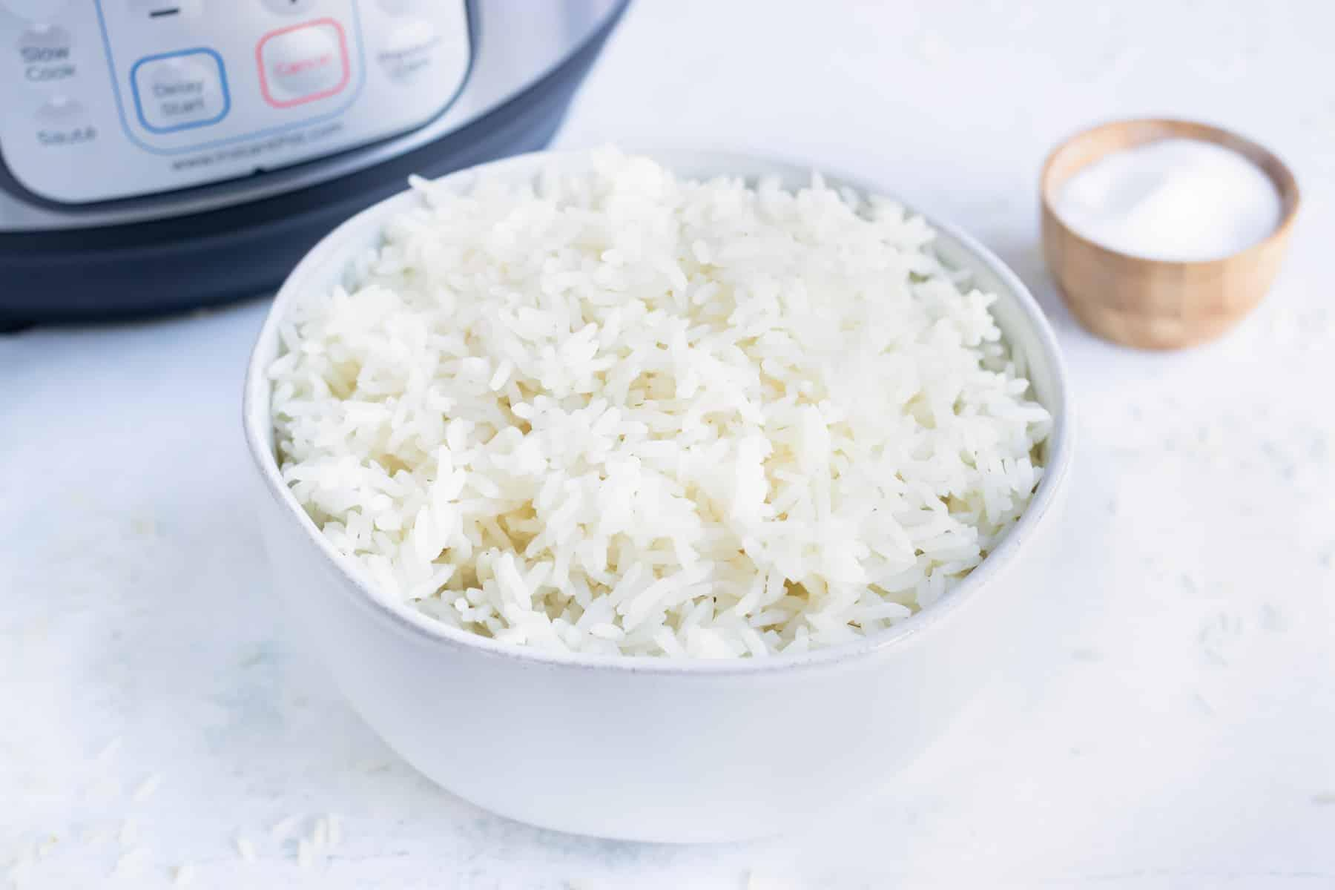rice: (290, 153, 1042, 661)
